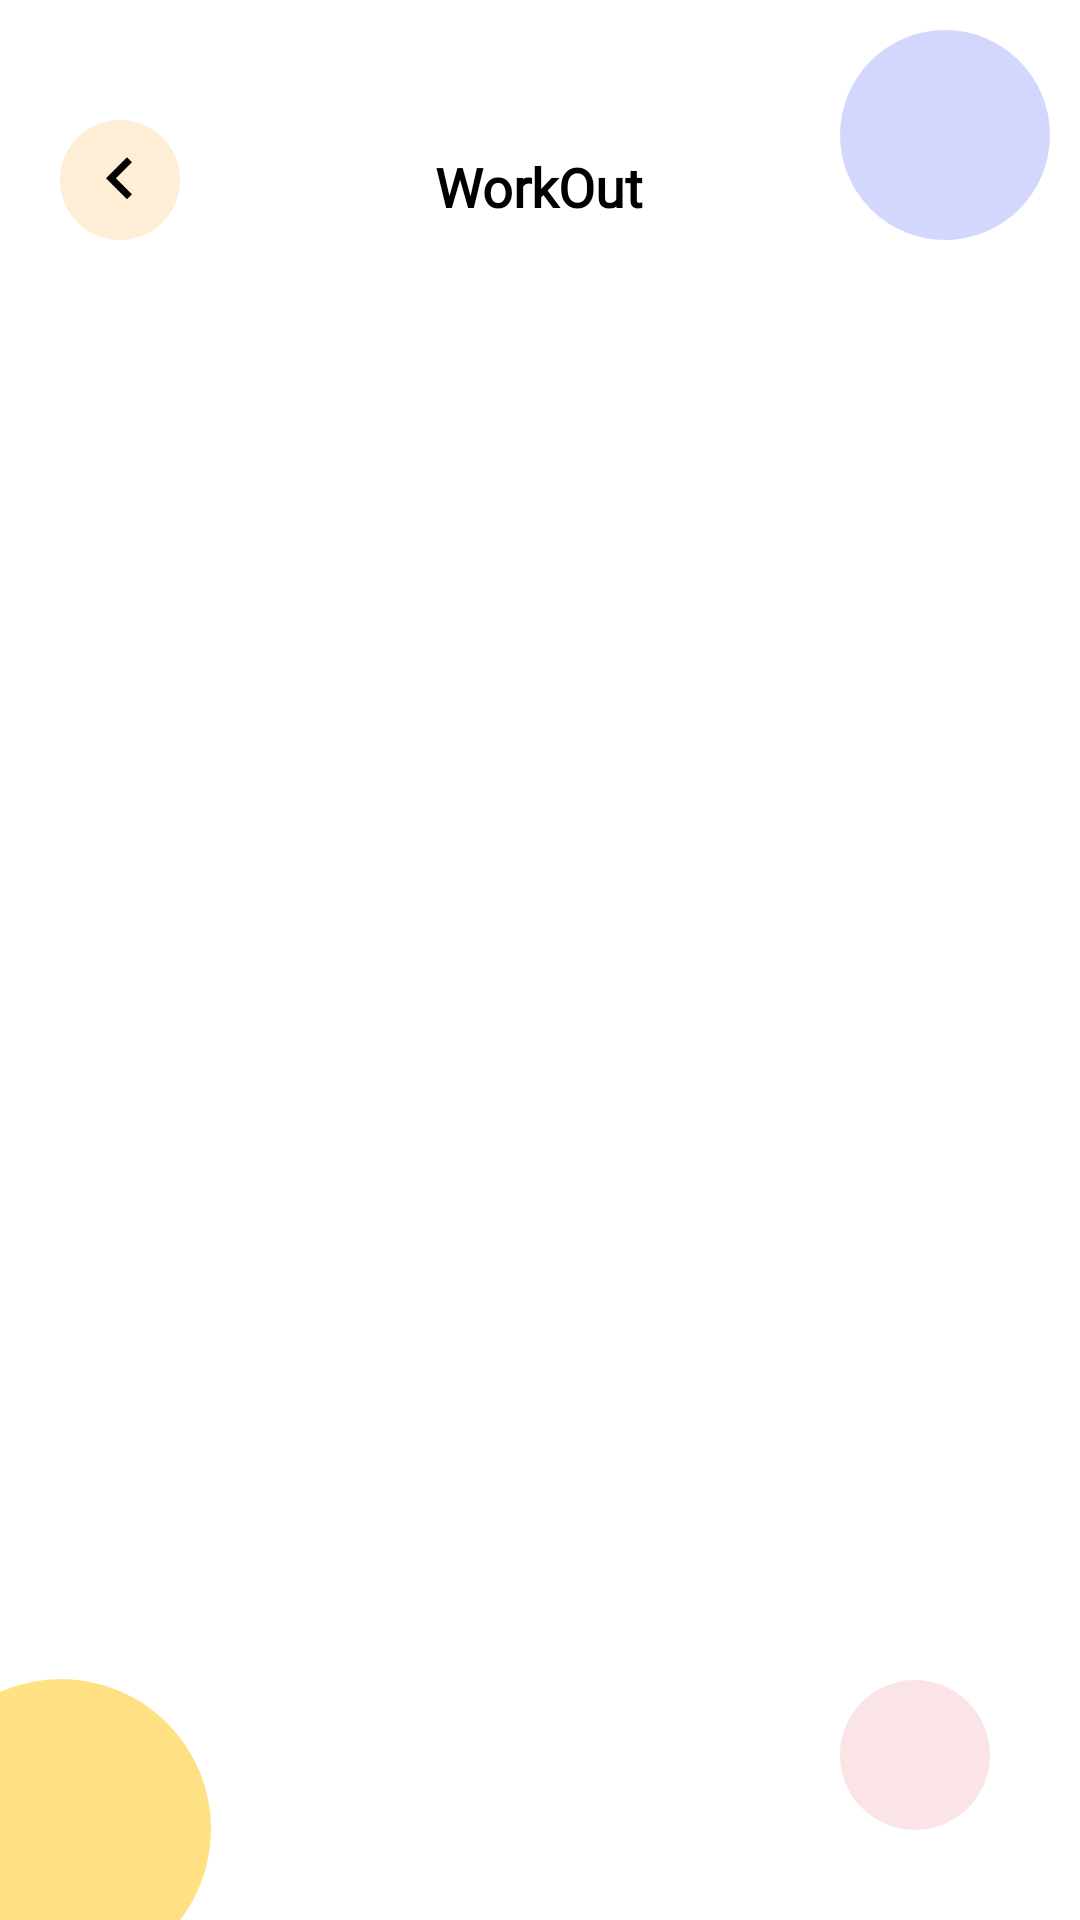

Screen size 1080w x 1920h. Icon name, then its box in pixels as (x1, y1, x2, y2):
back: (60, 120, 180, 240)
